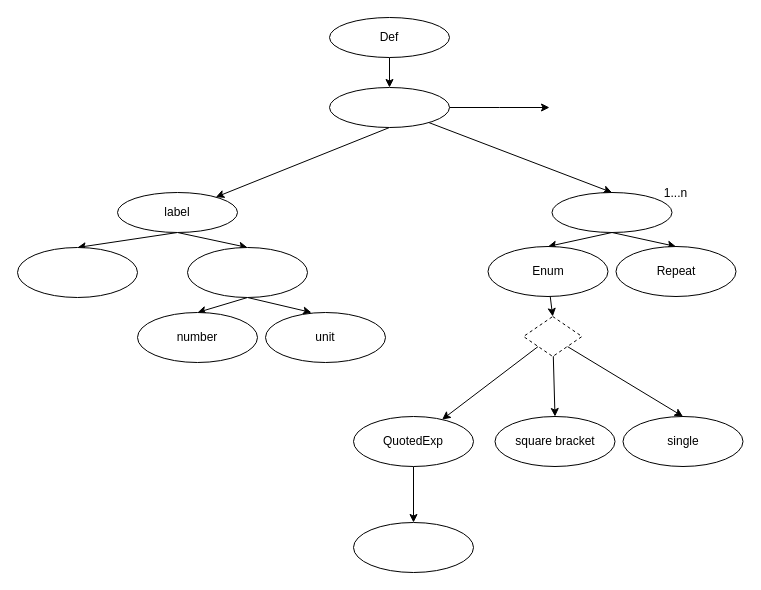
The diagram is 761 pixels wide and 590 high, and some of its shapes have lost their labels. The shapes that lost their labels are listed below. From the top down, each one's centre as x and y in pixels, then its label:
the point at 389,107: Stat
the point at 611,212: Exp
the point at 77,272: name
the point at 247,272: quotation
the point at 413,547: Ref: Exp
